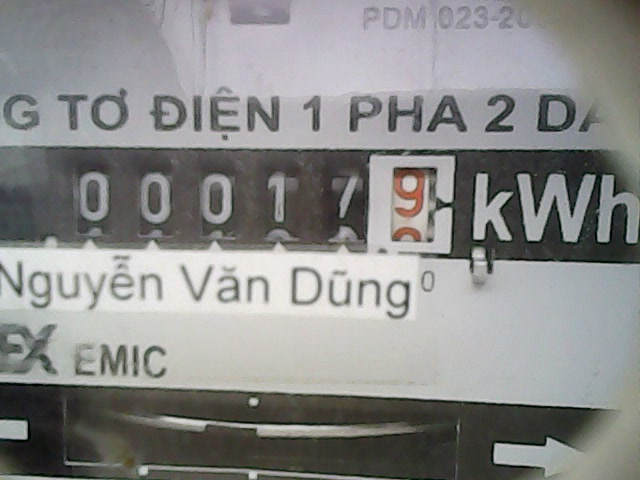phy_plate: (57, 144, 456, 257)
